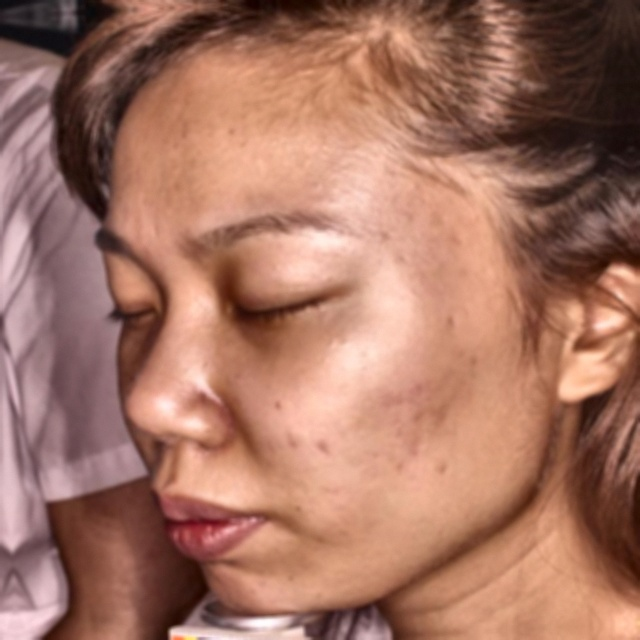comedone: (313, 434, 346, 465)
